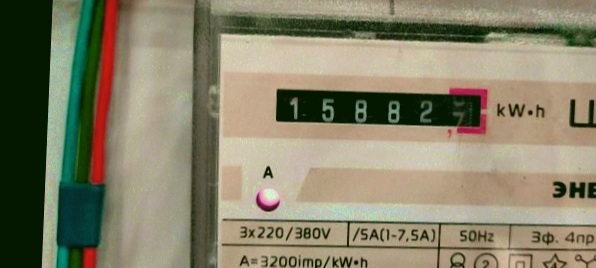1: (285, 91, 300, 120)
2: (416, 96, 433, 125)
5: (317, 94, 336, 122)
7: (448, 107, 464, 125)
8: (350, 95, 367, 124), (384, 96, 400, 124)
screen: (259, 70, 496, 142)
